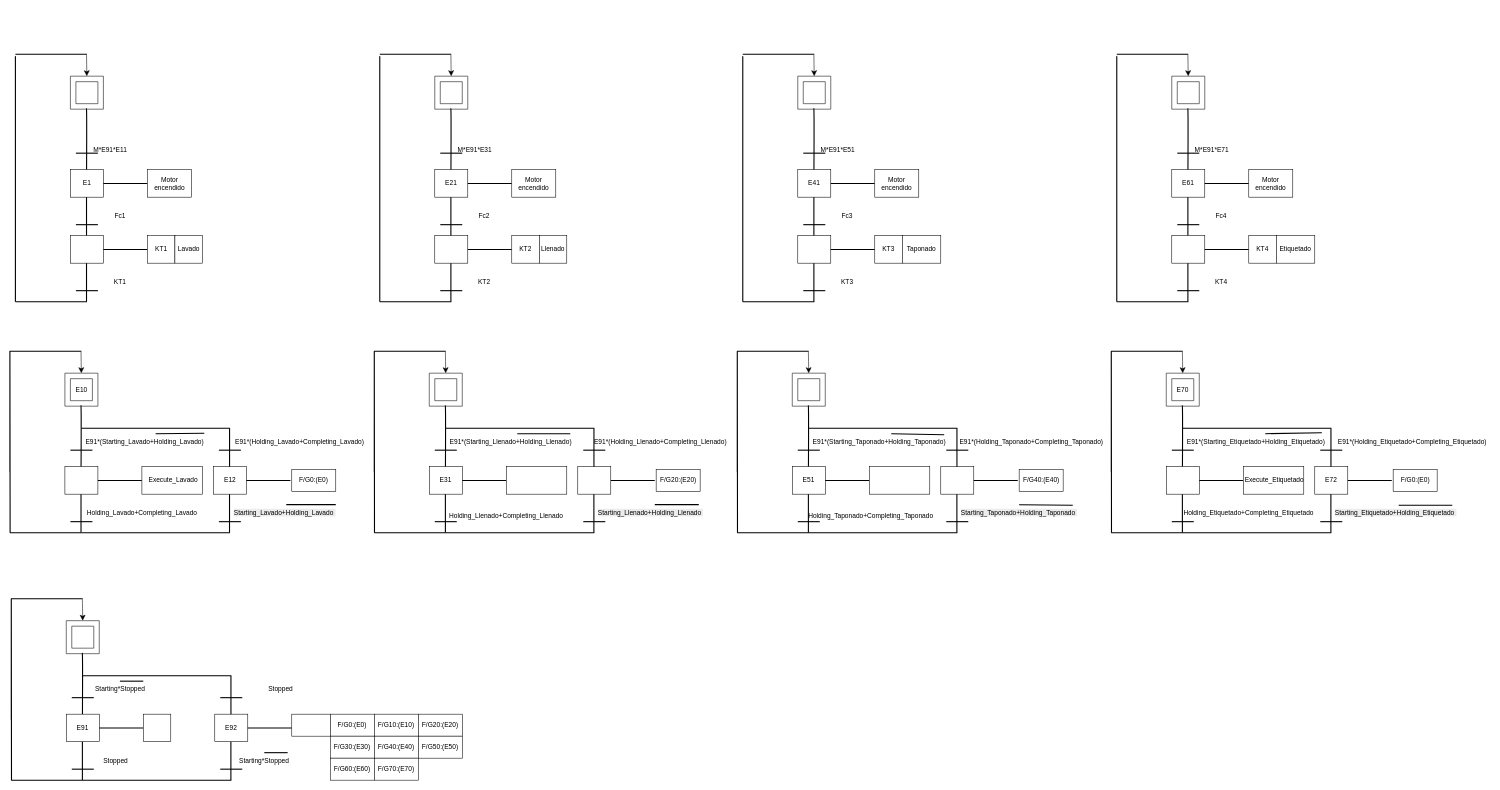
Some shapes in this 1500 by 790 pixel diagram are drawn without their labels. Here are the shapes that lost their labels. From the top down, the box of each, then its label:
(70, 76, 103, 109): E0
(434, 76, 468, 109): E20
(797, 76, 831, 109): E40
(1171, 76, 1205, 109): E60
(70, 235, 103, 263): E2
(434, 235, 468, 263): E22
(797, 235, 831, 263): E42
(1171, 235, 1205, 263): E62
(429, 373, 462, 406): E30
(792, 373, 825, 406): E50
(64, 466, 98, 494): E11
(506, 466, 567, 494): Execute_Llenado
(577, 466, 611, 494): E32
(869, 466, 930, 494): Execute_Taponado
(940, 466, 974, 494): E52
(1166, 466, 1199, 494): E71
(66, 620, 99, 654): E90
(143, 714, 171, 742): General Execute
(291, 714, 330, 736): Suspended
